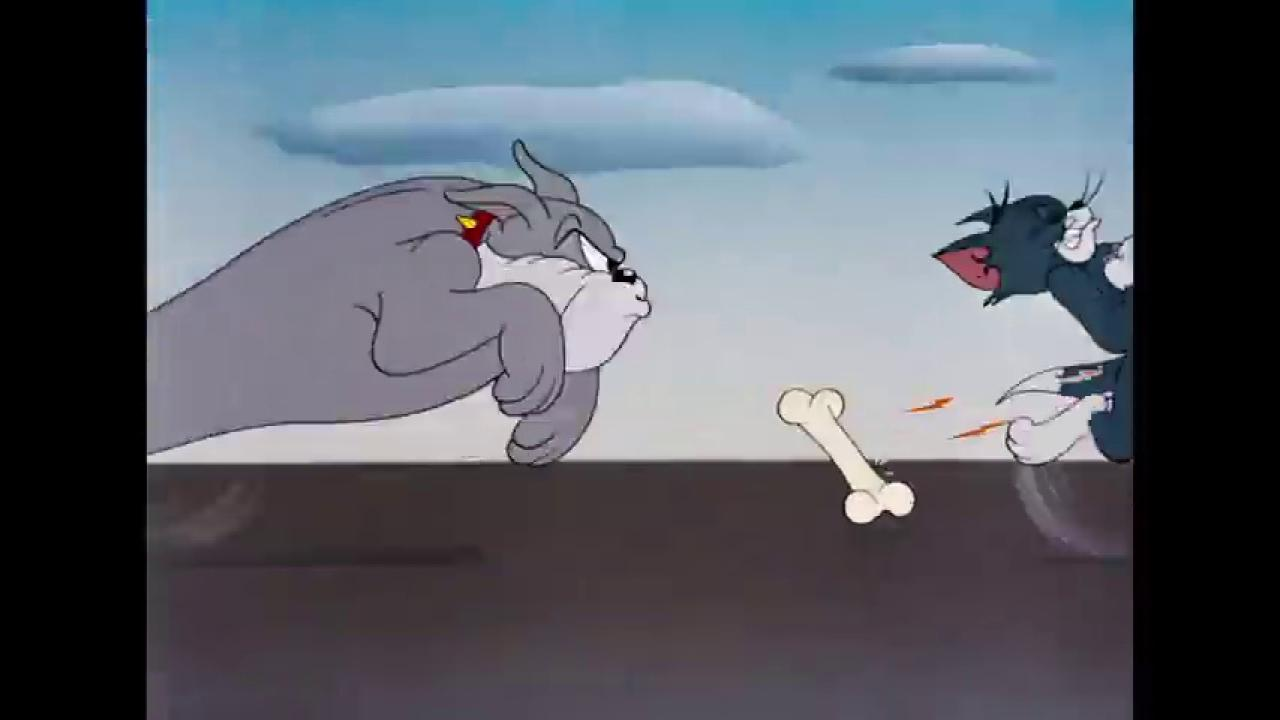Tom: (930, 191, 1133, 472)
